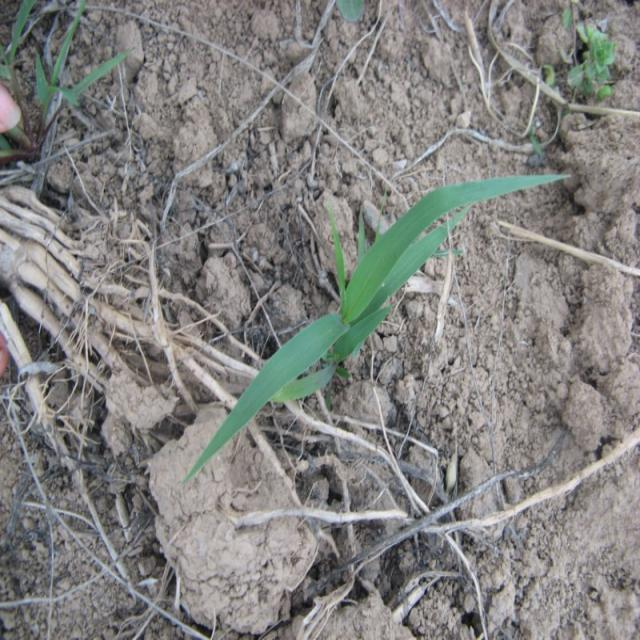bg: (184, 175, 576, 472)
